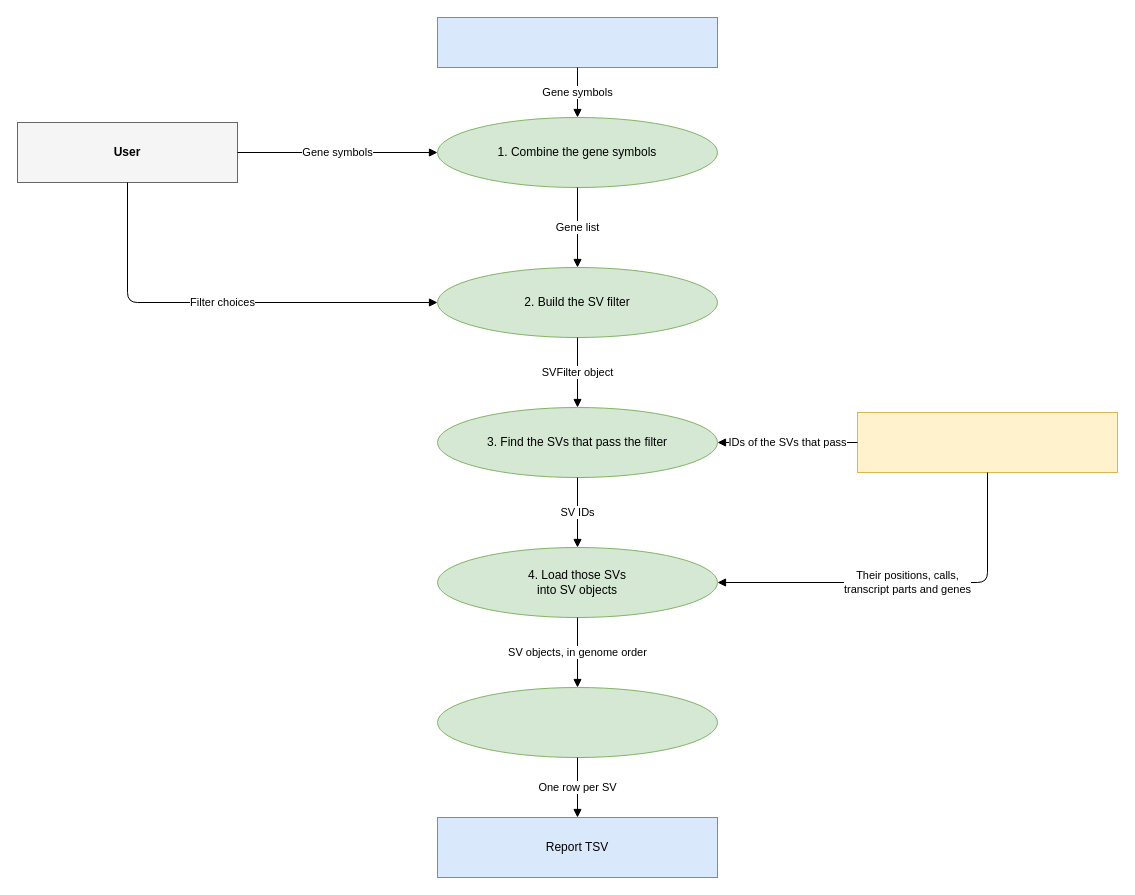
The diagram is 1135 pixels wide and 895 high, and some of its shapes have lost their labels. The box of each missing label's shape, as (x1, y1, x2, y2) in pixels:
5. Write the TSV: (436, 686, 718, 758)
Gene list file (optional): (436, 16, 718, 68)
SV database (svshare.db): (856, 412, 1118, 472)
